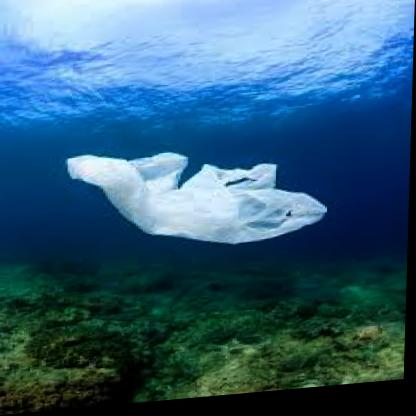Plastic: (51, 106, 356, 276)
